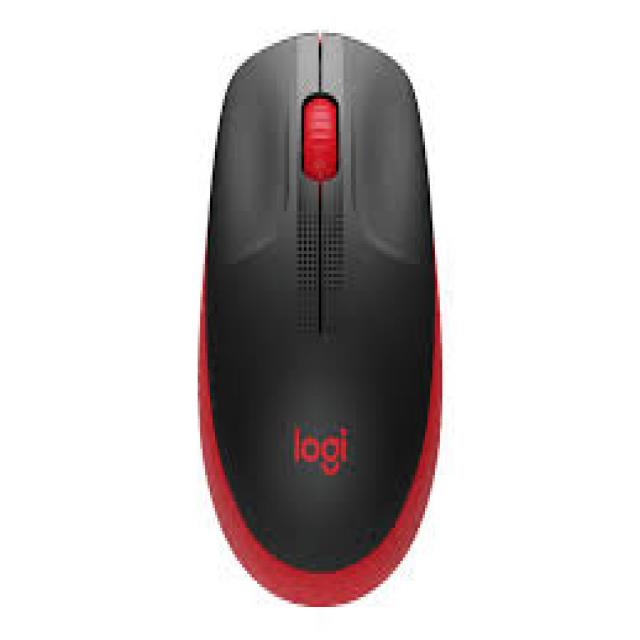others: (188, 26, 472, 604)
